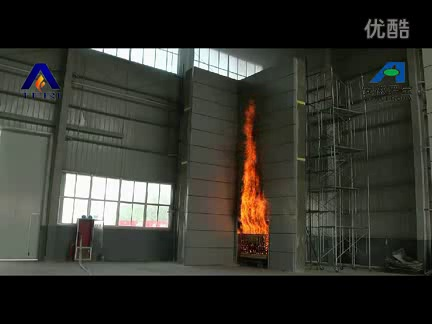fire: (239, 107, 270, 236)
